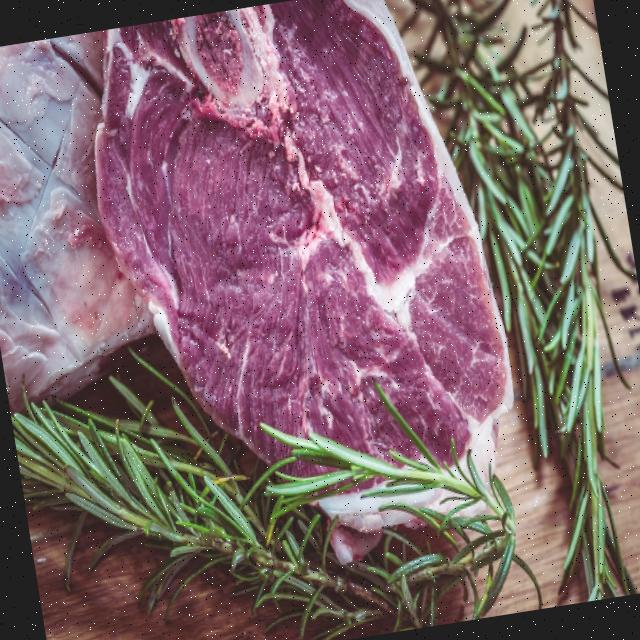meat: (59, 0, 553, 561)
